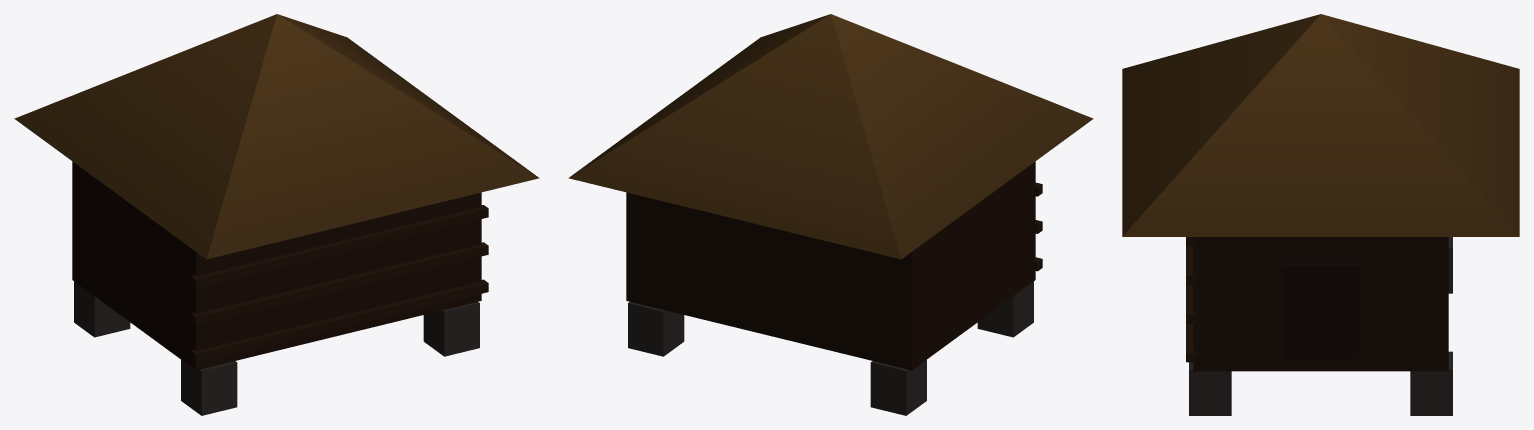
The model's file is storehouse.glb.
The picture shows the model from 3 angles, left to right: view 1: azimuth 30°, elevation 25°; view 2: azimuth 150°, elevation 25°; view 3: azimuth 270°, elevation 25°; orthographic projection. The views are drawn at different scales.
Visible parts, largest first — view 1: storehouse2; view 2: storehouse2; view 3: storehouse2.
Part boxes in pixels (<box>): storehouse2: <box>14,14,539,415</box>; storehouse2: <box>568,14,1093,415</box>; storehouse2: <box>1122,14,1519,415</box>.
Bounding box in the file's own units: 0.9334 × 0.86 × 0.9334.
